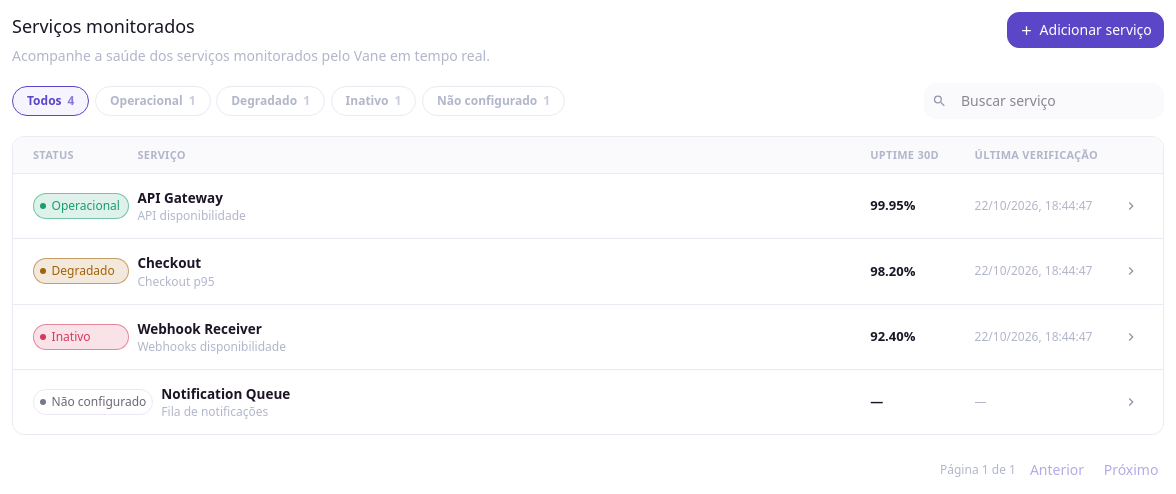
ServiceListPage › searching by name/SLO, case-insensitive, narrows the list (SVC-10)
Expected: the text "API Gateway" is shown, [137, 188, 223, 208]
Step 1. Type "CHECKOUT" into the field with placeholder "Buscar serviço" → (1044, 101), box [924, 83, 1164, 119]
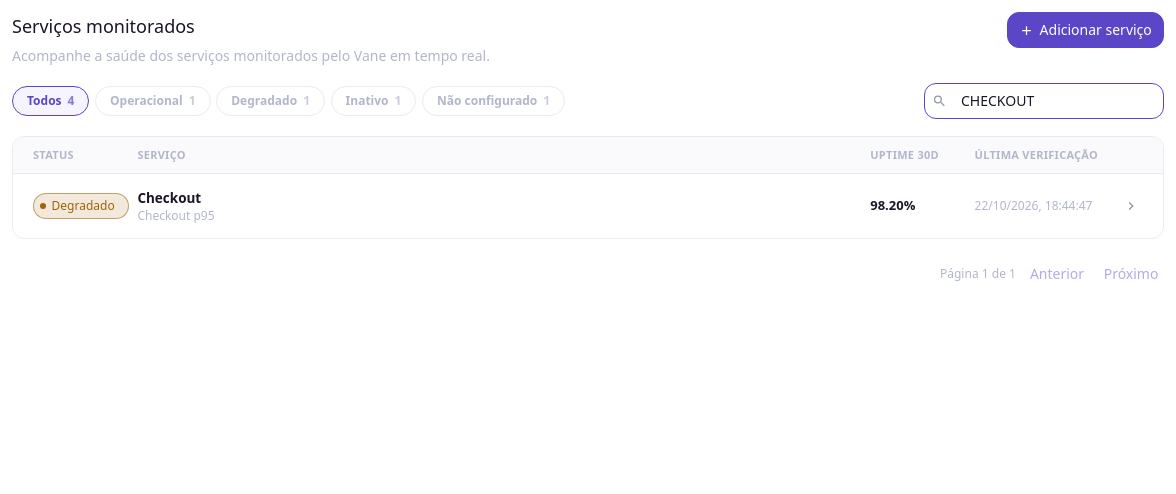
Expected: the text "Checkout" is shown, [137, 188, 201, 208]
Now the text "API Gateway" is gone
